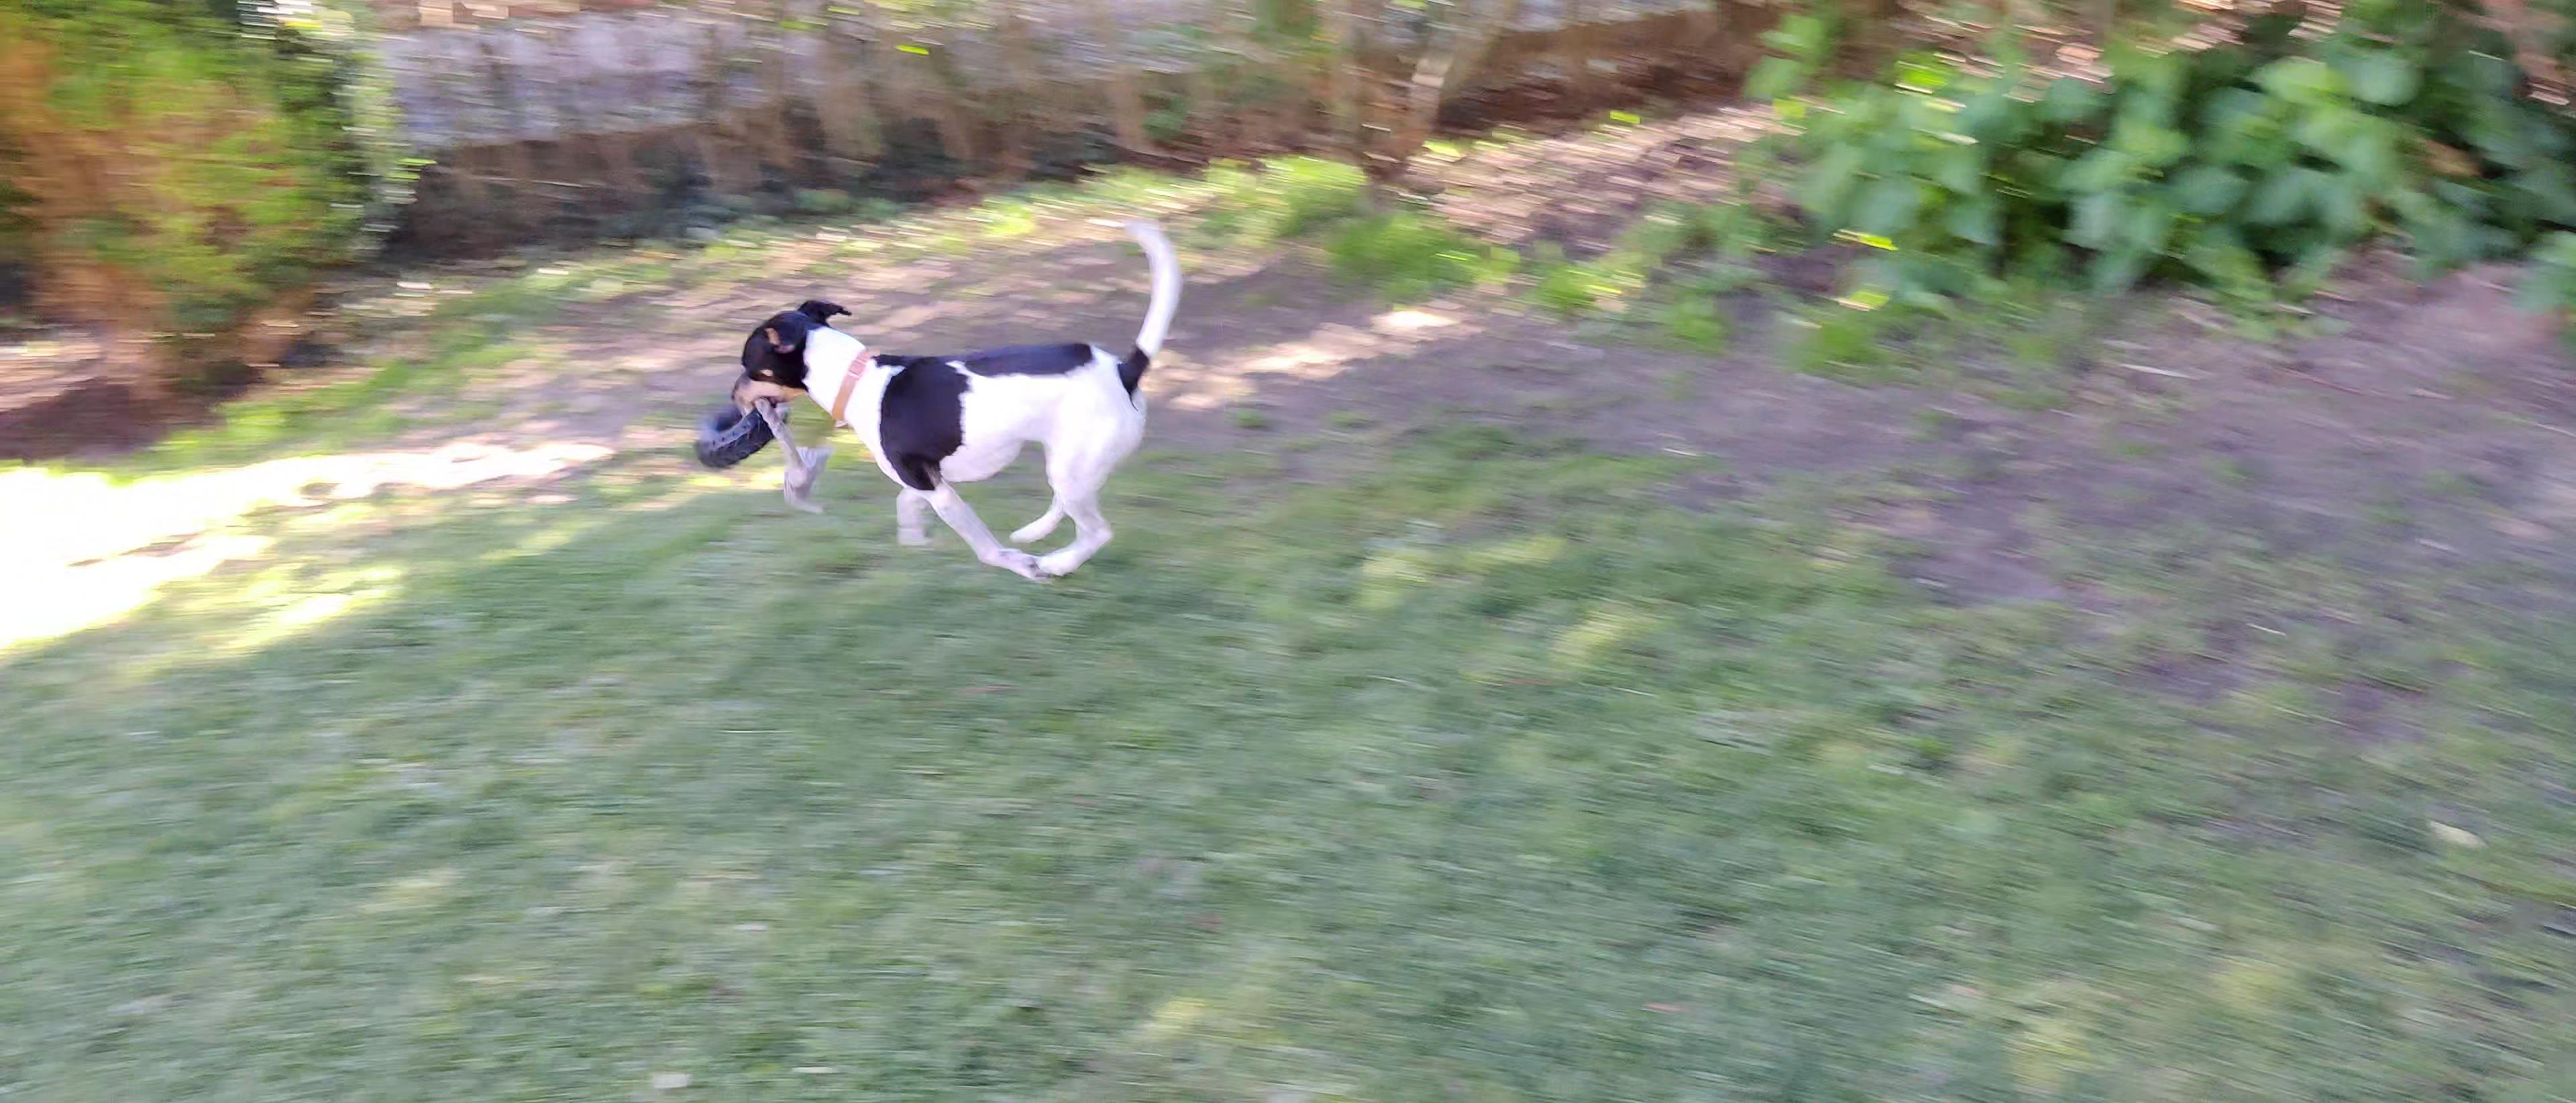Dog: (721, 202, 1194, 588)
